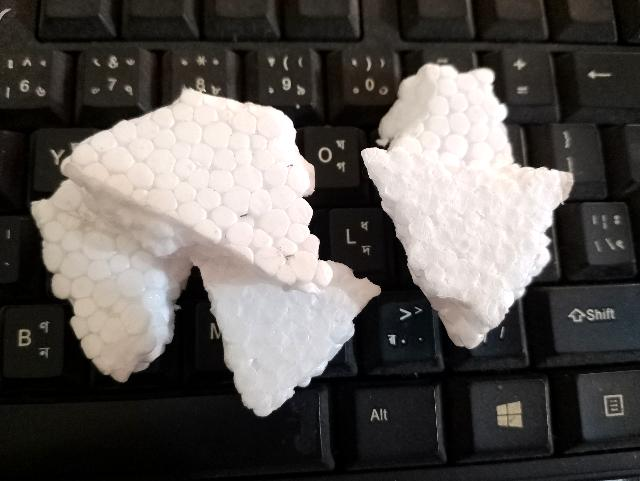cocksheet: (101, 52, 408, 412), (317, 48, 617, 354), (8, 120, 190, 389)
